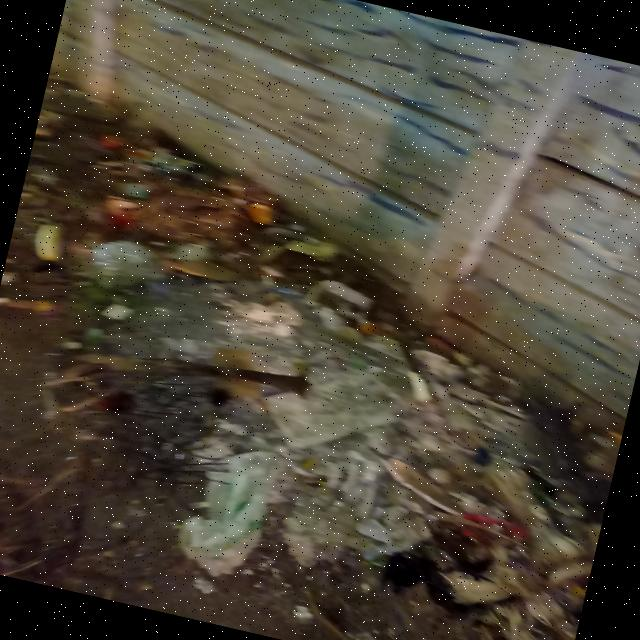garbage: (40, 241, 634, 640), (0, 109, 357, 362)
